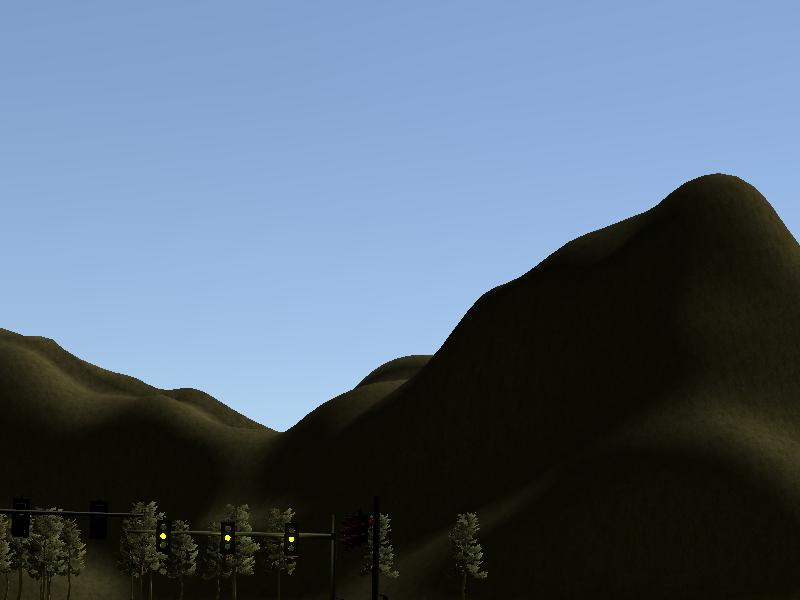Yellow: (219, 522, 235, 552), (156, 519, 170, 552), (284, 522, 298, 555)
